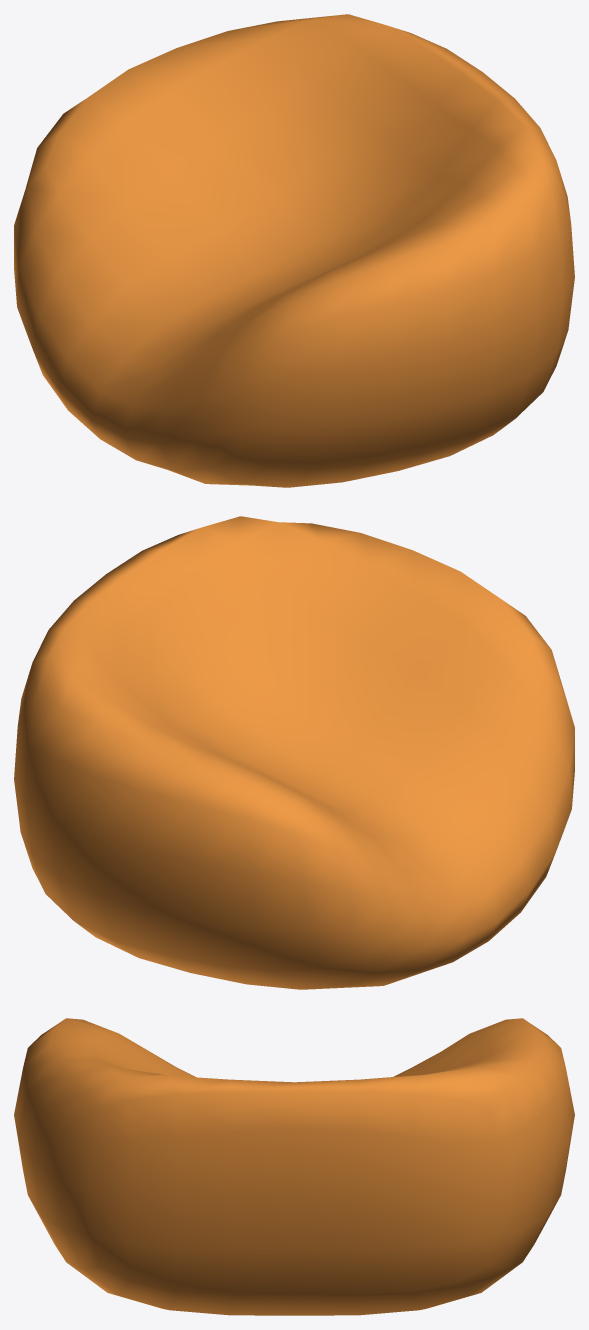
The model's file is beanbag_01_yellow.fbx.
3 renders of one model, top to bottom at view 1: azimuth 30°, elevation 25°; view 2: azimuth 150°, elevation 25°; view 3: azimuth 270°, elevation 25°, orthographic. The views are drawn at different scales.
Parts seen in each view (by area): view 1: beanbag_01_yellow; view 2: beanbag_01_yellow; view 3: beanbag_01_yellow.
Boxes of the visible parts, left/top/right/bottom form: beanbag_01_yellow: left=14, top=14, right=574, bottom=487; beanbag_01_yellow: left=14, top=516, right=574, bottom=989; beanbag_01_yellow: left=14, top=1018, right=574, bottom=1315.
Size of the model in its own units: 84.93 by 60.58 by 112.
1 material, 1 textured.
